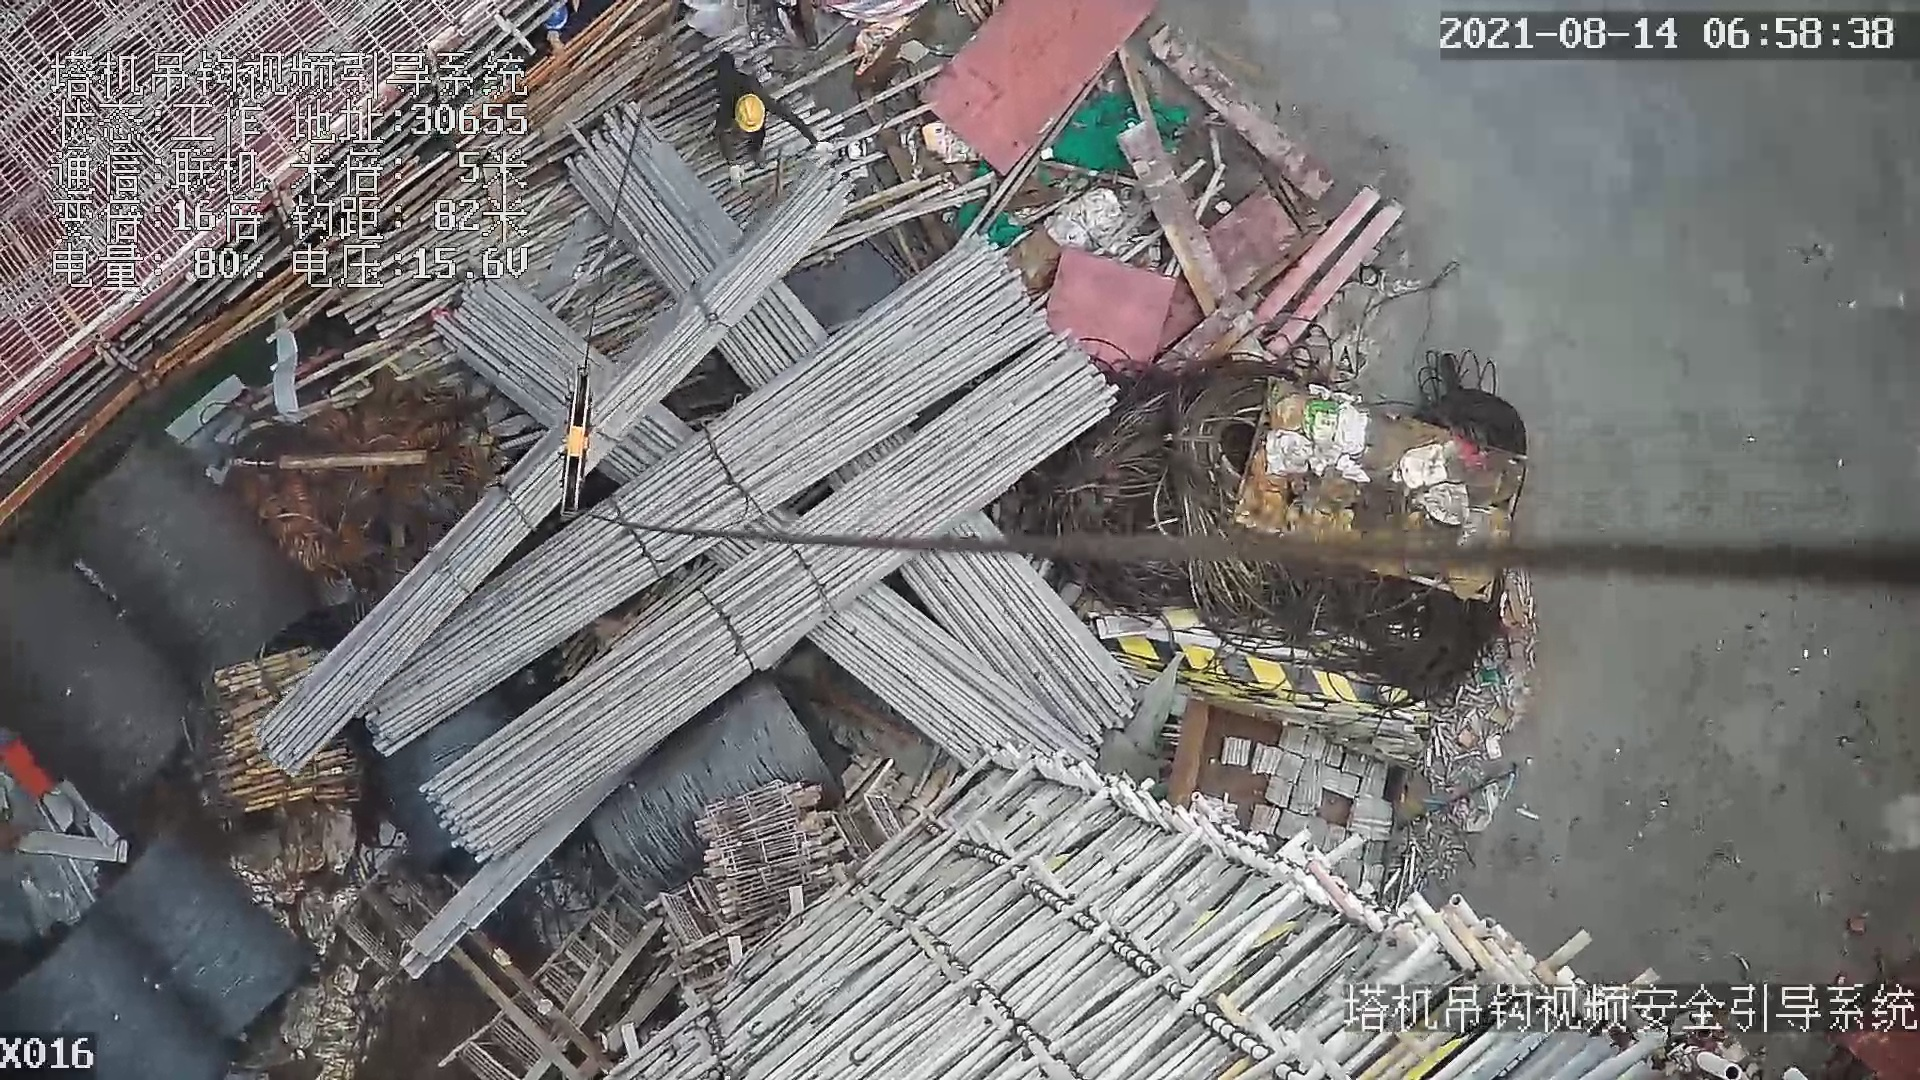helmet: (735, 93, 765, 132)
hook: (554, 359, 596, 517)
person: (691, 53, 833, 181)
rebar: (421, 334, 1119, 865), (254, 165, 851, 773), (352, 249, 1044, 750), (900, 514, 1144, 746), (809, 584, 1108, 765)
scaffold: (215, 647, 355, 812)
